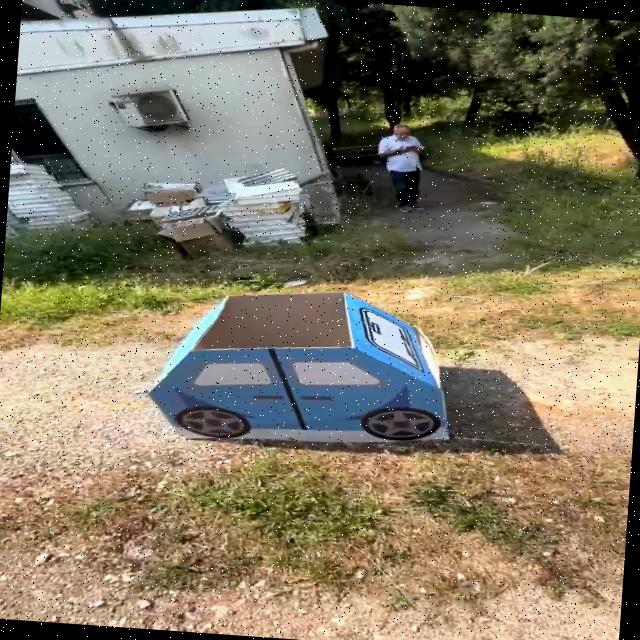blue_car: (130, 267, 479, 470)
